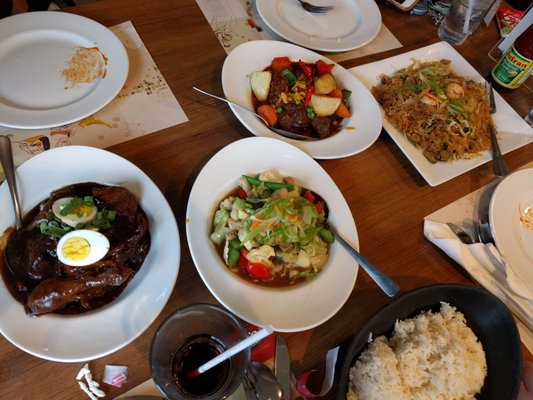pizza: (437, 0, 498, 46)
salad: (194, 326, 275, 374)
sushi: (0, 144, 182, 363), (183, 137, 364, 332), (326, 284, 523, 400), (205, 39, 384, 157), (0, 11, 129, 114)
